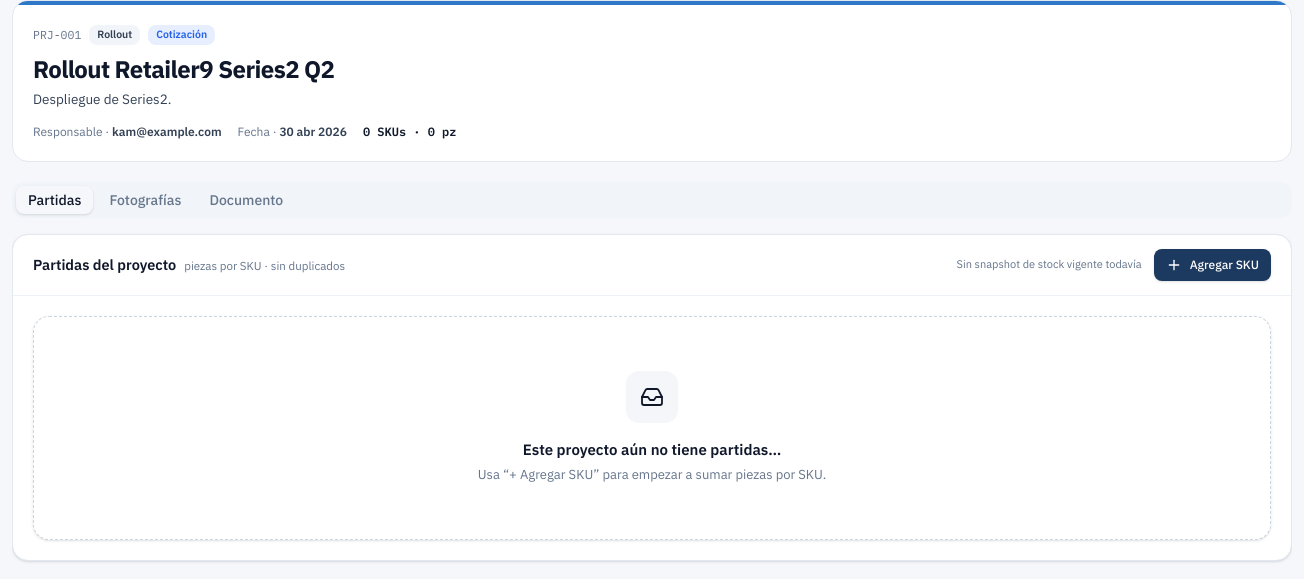
it: los barridos de a11y también sobre los otros TRES estados del panel de Documento › con la tarjeta de fallo de render (pdf.js no pudo abrir el PDF, sin previa buena)
Press the mouse on the tab "Documento": (246, 200) [197, 186, 295, 214]
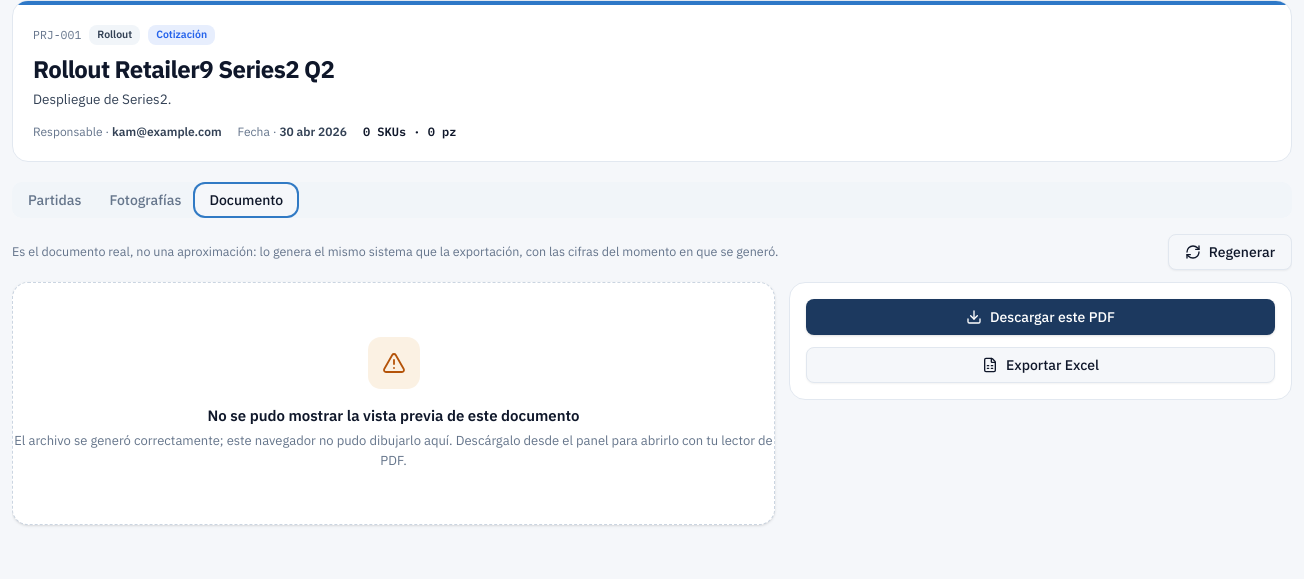
Result: the text "No se pudo mostrar la vista previa de este documento" is shown at [208, 406, 580, 425]
